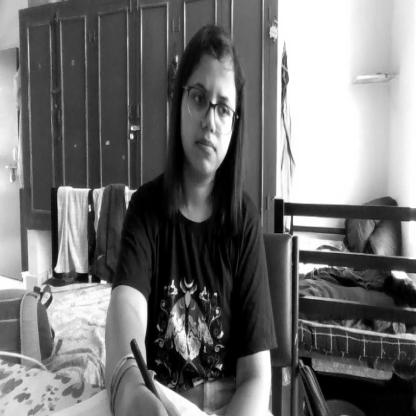Normal: (174, 29, 242, 189)
